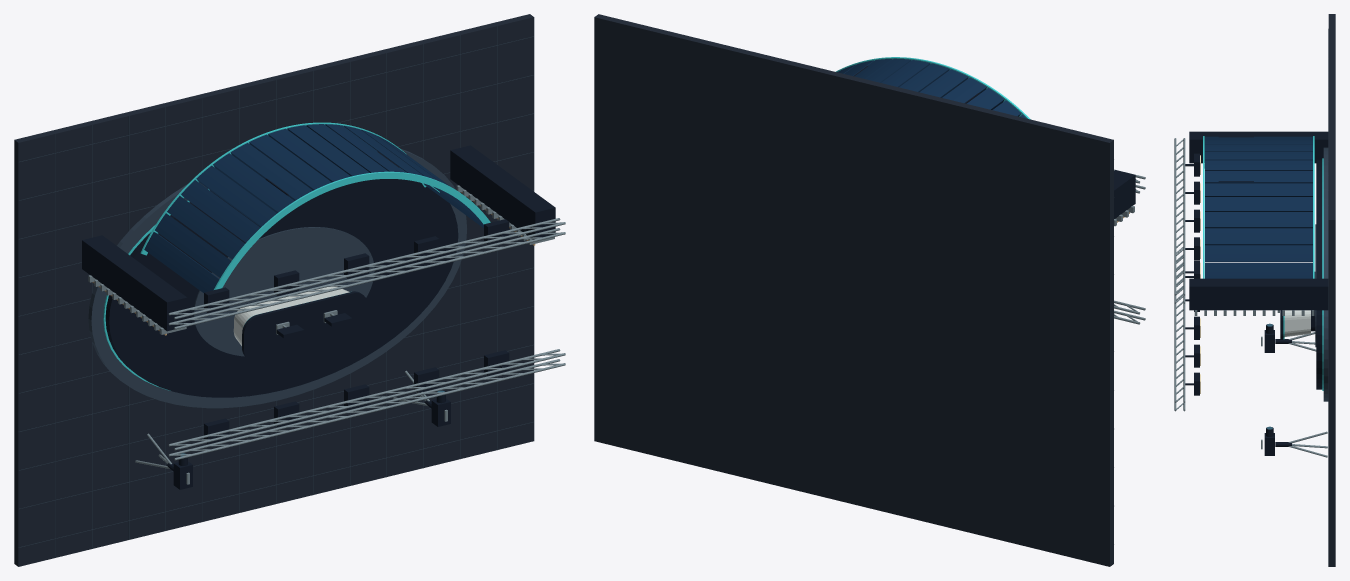
File: NovaStudio.obj
3 views of the same model, side by side, from view 1: azimuth 30°, elevation 25°; view 2: azimuth 150°, elevation 25°; view 3: azimuth 270°, elevation 25° (orthographic). The views are drawn at different scales.
Visible parts, largest first — view 1: Floor_foundation_0, Stage_upper_deck_28, Presenter_zone_29, Stage_lower_step_26, Desk_worktop_114, Acoustic_tower_-500_81, Acoustic_tower_500_96, LED_border_356_49, LED_wall_segment_14_43, LED_wall_segment_15_44, LED_wall_segment_17_46, LED_wall_segment_16_45 (+18 smaller); view 2: Floor_foundation_0, Acoustic_tower_-500_81, LED_wall_segment_11_40, LED_wall_segment_10_39; view 3: Acoustic_tower_500_96, Floor_foundation_0, LED_wall_segment_02_31, LED_wall_segment_03_32, LED_wall_segment_04_33, LED_wall_segment_01_30, LED_wall_segment_05_34, LED_wall_segment_06_35, Acoustic_tower_-500_81, Stage_upper_deck_28, LED_wall_segment_07_36, Stage_lower_step_26 (+16 smaller).
Boxes of the visible parts, x1=… form: Floor_foundation_0: x1=14, y1=14, x2=533, y2=566; Stage_upper_deck_28: x1=105, y1=179, x2=458, y2=397; Presenter_zone_29: x1=193, y1=227, x2=374, y2=356; Stage_lower_step_26: x1=88, y1=148, x2=466, y2=408; Desk_worktop_114: x1=242, y1=291, x2=367, y2=361; Acoustic_tower_-500_81: x1=82, y1=235, x2=187, y2=331; Acoustic_tower_500_96: x1=450, y1=145, x2=555, y2=239; LED_border_356_49: x1=214, y1=171, x2=490, y2=289; LED_wall_segment_14_43: x1=196, y1=165, x2=276, y2=226; LED_wall_segment_15_44: x1=181, y1=180, x2=260, y2=242; LED_wall_segment_17_46: x1=155, y1=213, x2=231, y2=277; LED_wall_segment_16_45: x1=167, y1=196, x2=244, y2=259; Floor_foundation_0: x1=594, y1=14, x2=1113, y2=566; Acoustic_tower_-500_81: x1=1114, y1=170, x2=1135, y2=218; LED_wall_segment_11_40: x1=920, y1=69, x2=968, y2=97; LED_wall_segment_10_39: x1=899, y1=63, x2=949, y2=92; Acoustic_tower_500_96: x1=1189, y1=278, x2=1328, y2=310; Floor_foundation_0: x1=1328, y1=14, x2=1335, y2=566; LED_wall_segment_02_31: x1=1205, y1=245, x2=1312, y2=262; LED_wall_segment_03_32: x1=1205, y1=228, x2=1312, y2=245; LED_wall_segment_04_33: x1=1205, y1=212, x2=1312, y2=228; LED_wall_segment_01_30: x1=1205, y1=263, x2=1312, y2=278; LED_wall_segment_05_34: x1=1205, y1=197, x2=1312, y2=211; LED_wall_segment_06_35: x1=1205, y1=183, x2=1312, y2=196; Acoustic_tower_-500_81: x1=1189, y1=131, x2=1328, y2=163; Stage_upper_deck_28: x1=1316, y1=159, x2=1322, y2=389; LED_wall_segment_07_36: x1=1205, y1=171, x2=1312, y2=183; Stage_lower_step_26: x1=1323, y1=147, x2=1328, y2=401.
Size of the model in its own units: 1400 by 1100 by 463.
